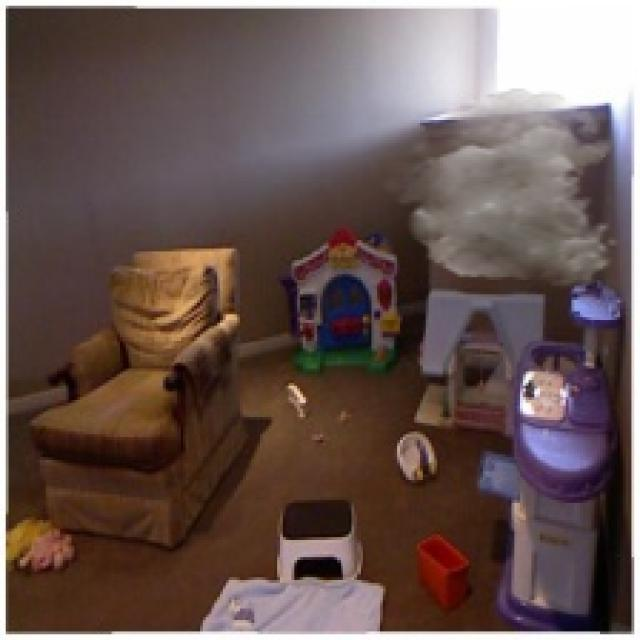smoke: (380, 89, 620, 288)
